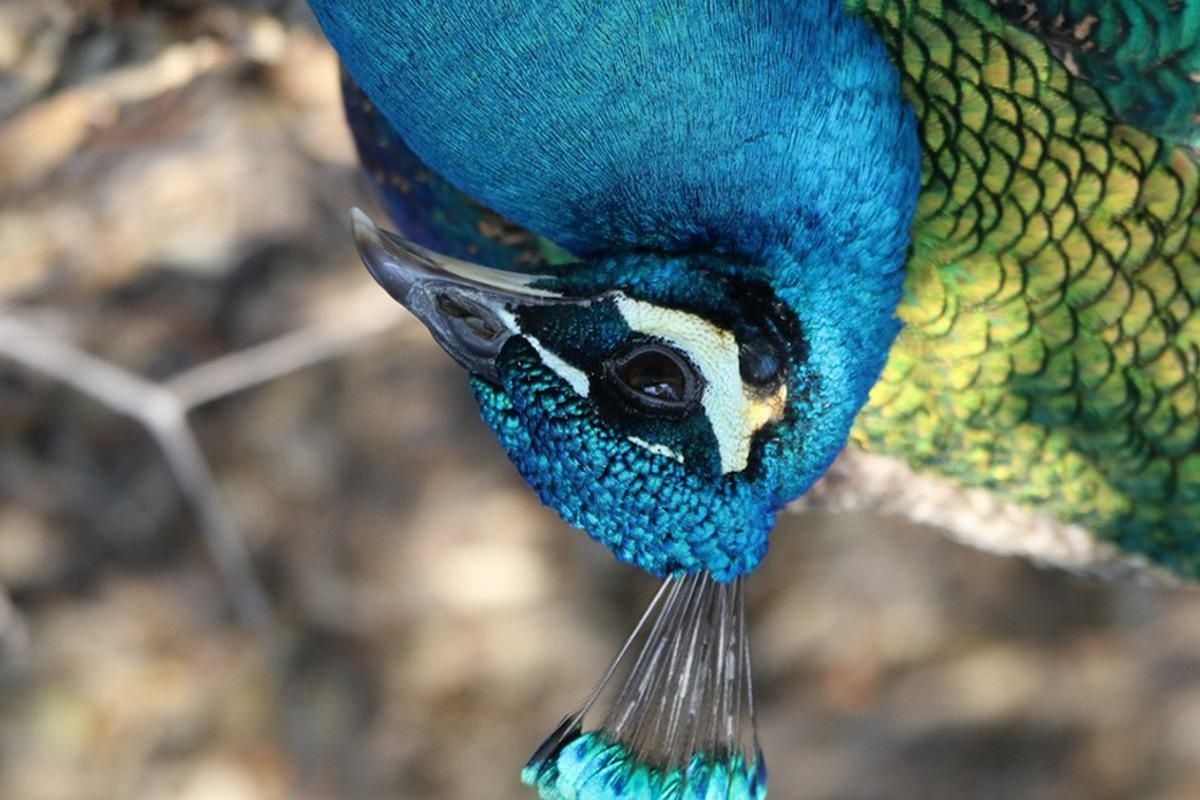peacock: (316, 1, 1117, 727)
